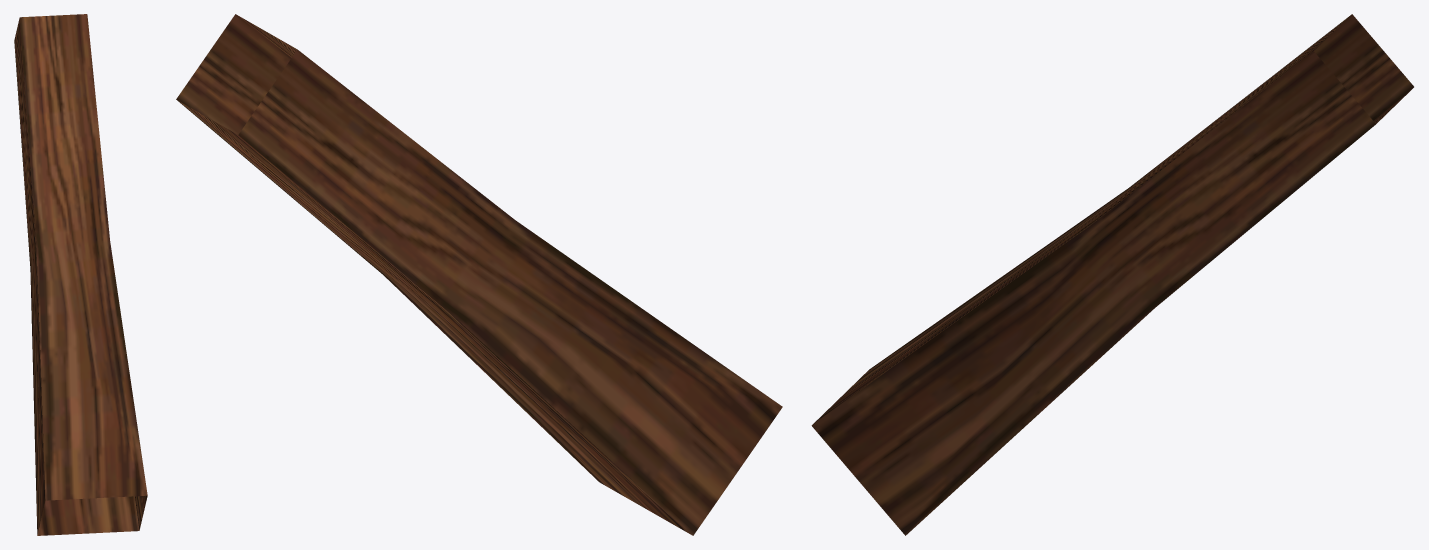
The model's file is OVERHILL_A_01_POST24.fbx.
3 renders of one model, left to right at view 1: azimuth 30°, elevation 25°; view 2: azimuth 150°, elevation 25°; view 3: azimuth 270°, elevation 25°, orthographic. The views are drawn at different scales.
Visible parts, largest first — view 1: OVERHILL_A_01_POST24; view 2: OVERHILL_A_01_POST24; view 3: OVERHILL_A_01_POST24.
Boxes of the visible parts, box(x1,y1,x2,y2) form: OVERHILL_A_01_POST24: box(14, 14, 147, 535); OVERHILL_A_01_POST24: box(176, 14, 782, 535); OVERHILL_A_01_POST24: box(811, 14, 1413, 535).
Bounding box in the file's own units: 4074 × 7005 × 6981.
Materials: 1 (1 with a texture image).
